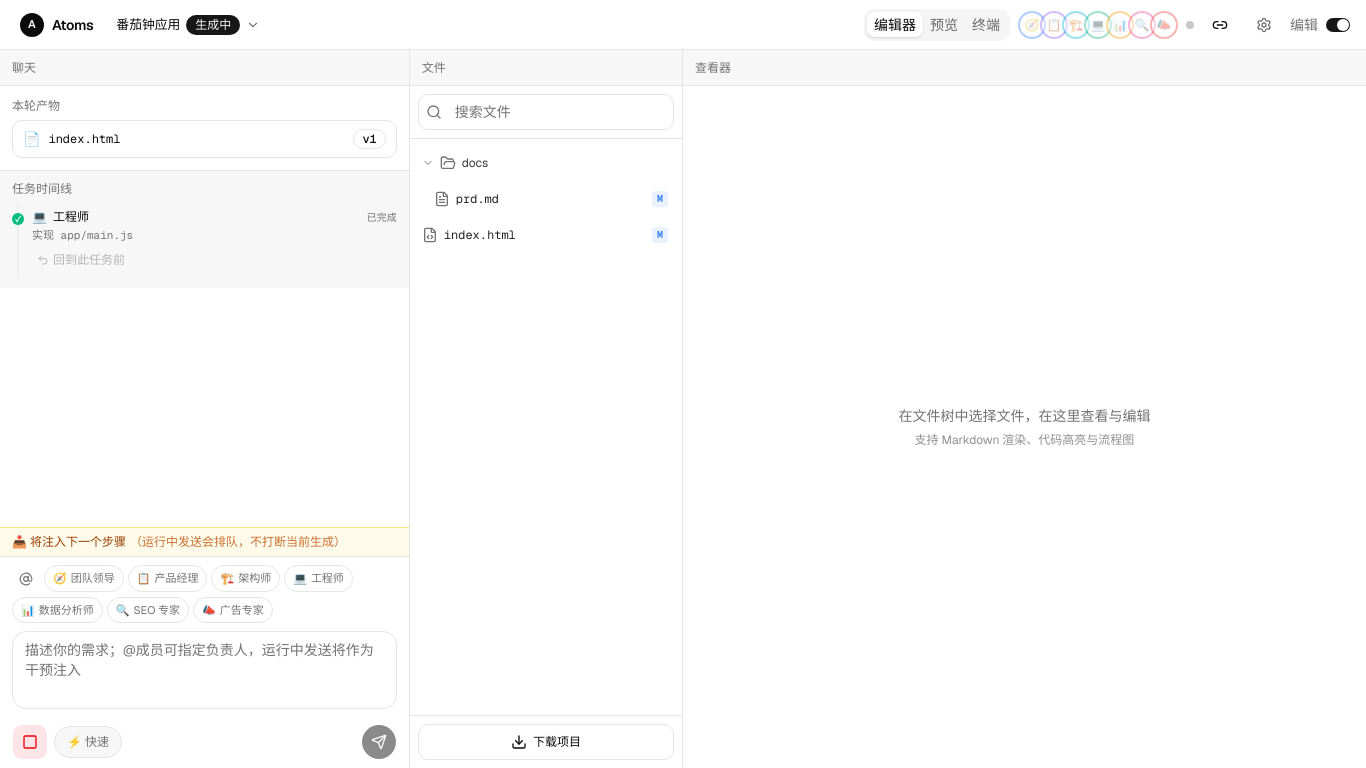
Test: 跨面板接线（T25） › 产物工具卡点击 → 打开同一查看器页签（与文件树共用选中状态）
Expected: the text "番茄钟应用" is shown, [116, 15, 180, 34]
Step 1. Click the button with aria-label "打开 index.html" → x=84, y=139, box [12, 120, 397, 158]
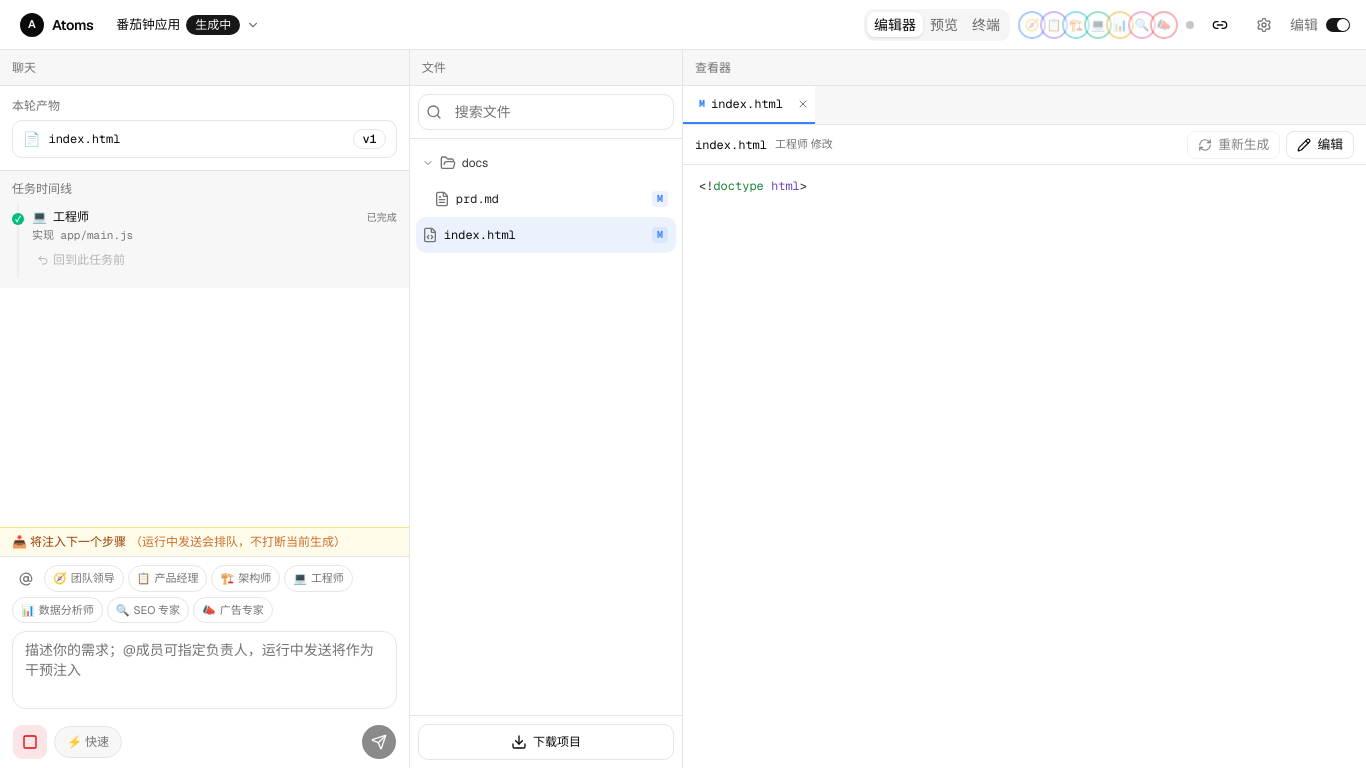
Expected: the tab "M index.html" is shown, [693, 86, 789, 122]
